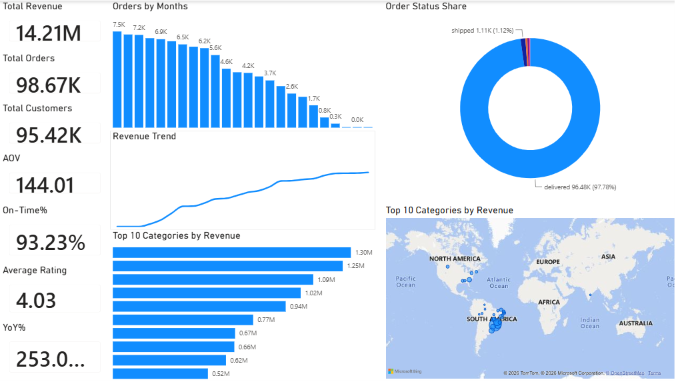

Layout of this report page (visuals, bound fields, positions):
{"tool":"powerbi","page":{"name":"Overview (Executive Dashboard)","canvas":[1280,720],"ordinal":0},"visuals":[{"type":"cardVisual","title":"Total Revenue","fields":{"Data":["public bi_fact_sales.Revenue"]},"box":[0,0,207.9,94.5],"z":0},{"type":"cardVisual","title":"Total Orders","fields":{"Data":["public bi_fact_sales.Orders"]},"box":[0,98.3,207.9,94.5],"z":1000},{"type":"cardVisual","title":"Total Customers","fields":{"Data":["public bi_fact_sales.Customers"]},"box":[0,192.8,207.9,94.5],"z":2000},{"type":"cardVisual","title":"AOV","fields":{"Data":["public bi_fact_sales.AOV"]},"box":[0,287.2,207.9,94.5],"z":3000},{"type":"cardVisual","title":"On-Time%","fields":{"Data":["public bi_fact_sales.On-time %"]},"box":[0,385.5,207.9,113.4],"z":4000},{"type":"cardVisual","title":"Average Rating","fields":{"Data":["public bi_fact_sales.Avg Rating"]},"box":[0,498.9,207.9,107.7],"z":5000},{"type":"cardVisual","title":"YoY%","fields":{"Data":["public bi_fact_sales.YoY %"]},"box":[0,606.6,207.9,113.4],"z":6000},{"type":"lineChart","title":"Revenue Trend","fields":{"Category":["DimDate.Year-Month"],"Y":["public bi_fact_sales.Revenue"]},"box":[207.9,245.7,500.8,187.1],"z":7000},{"type":"clusteredColumnChart","title":"Orders by Months","fields":{"Category":["DimDate.Year-Month"],"Y":["public bi_fact_sales.Orders"]},"box":[207.9,0,500.8,245.7],"z":8000},{"type":"map","title":"Top 10 Categories by Revenue","fields":{"Category":["public bi_fact_sales.customer_state"],"Size":["public bi_fact_sales.Revenue"]},"box":[723.8,385.5,555.6,334.5],"z":9000},{"type":"barChart","title":"Top 10 Categories by Revenue","fields":{"Category":["public bi_fact_sales.category"],"Y":["public bi_fact_sales.Revenue"]},"box":[207.9,432.8,500.8,287.2],"z":10000},{"type":"donutChart","title":"Order Status Share","fields":{"Category":["public bi_fact_sales.order_status"],"Y":["public bi_fact_sales.Orders"]},"box":[723.8,0,555.6,385.5],"z":11000}]}

Visuals, with their boxes in screenshot pixels (x1, y1, x2, y2), scaled from the page's 1280x720 canvas onto the 675x381 screenshot:
"Total Revenue" cardVisual: <bbox>0, 0, 110, 50</bbox>
"Total Orders" cardVisual: <bbox>0, 52, 110, 102</bbox>
"Total Customers" cardVisual: <bbox>0, 102, 110, 152</bbox>
"AOV" cardVisual: <bbox>0, 152, 110, 202</bbox>
"On-Time%" cardVisual: <bbox>0, 204, 110, 264</bbox>
"Average Rating" cardVisual: <bbox>0, 264, 110, 321</bbox>
"YoY%" cardVisual: <bbox>0, 321, 110, 380</bbox>
"Revenue Trend" lineChart: <bbox>110, 130, 374, 229</bbox>
"Orders by Months" clusteredColumnChart: <bbox>110, 0, 374, 130</bbox>
"Top 10 Categories by Revenue" map: <bbox>382, 204, 674, 380</bbox>
"Top 10 Categories by Revenue" barChart: <bbox>110, 229, 374, 380</bbox>
"Order Status Share" donutChart: <bbox>382, 0, 674, 204</bbox>
